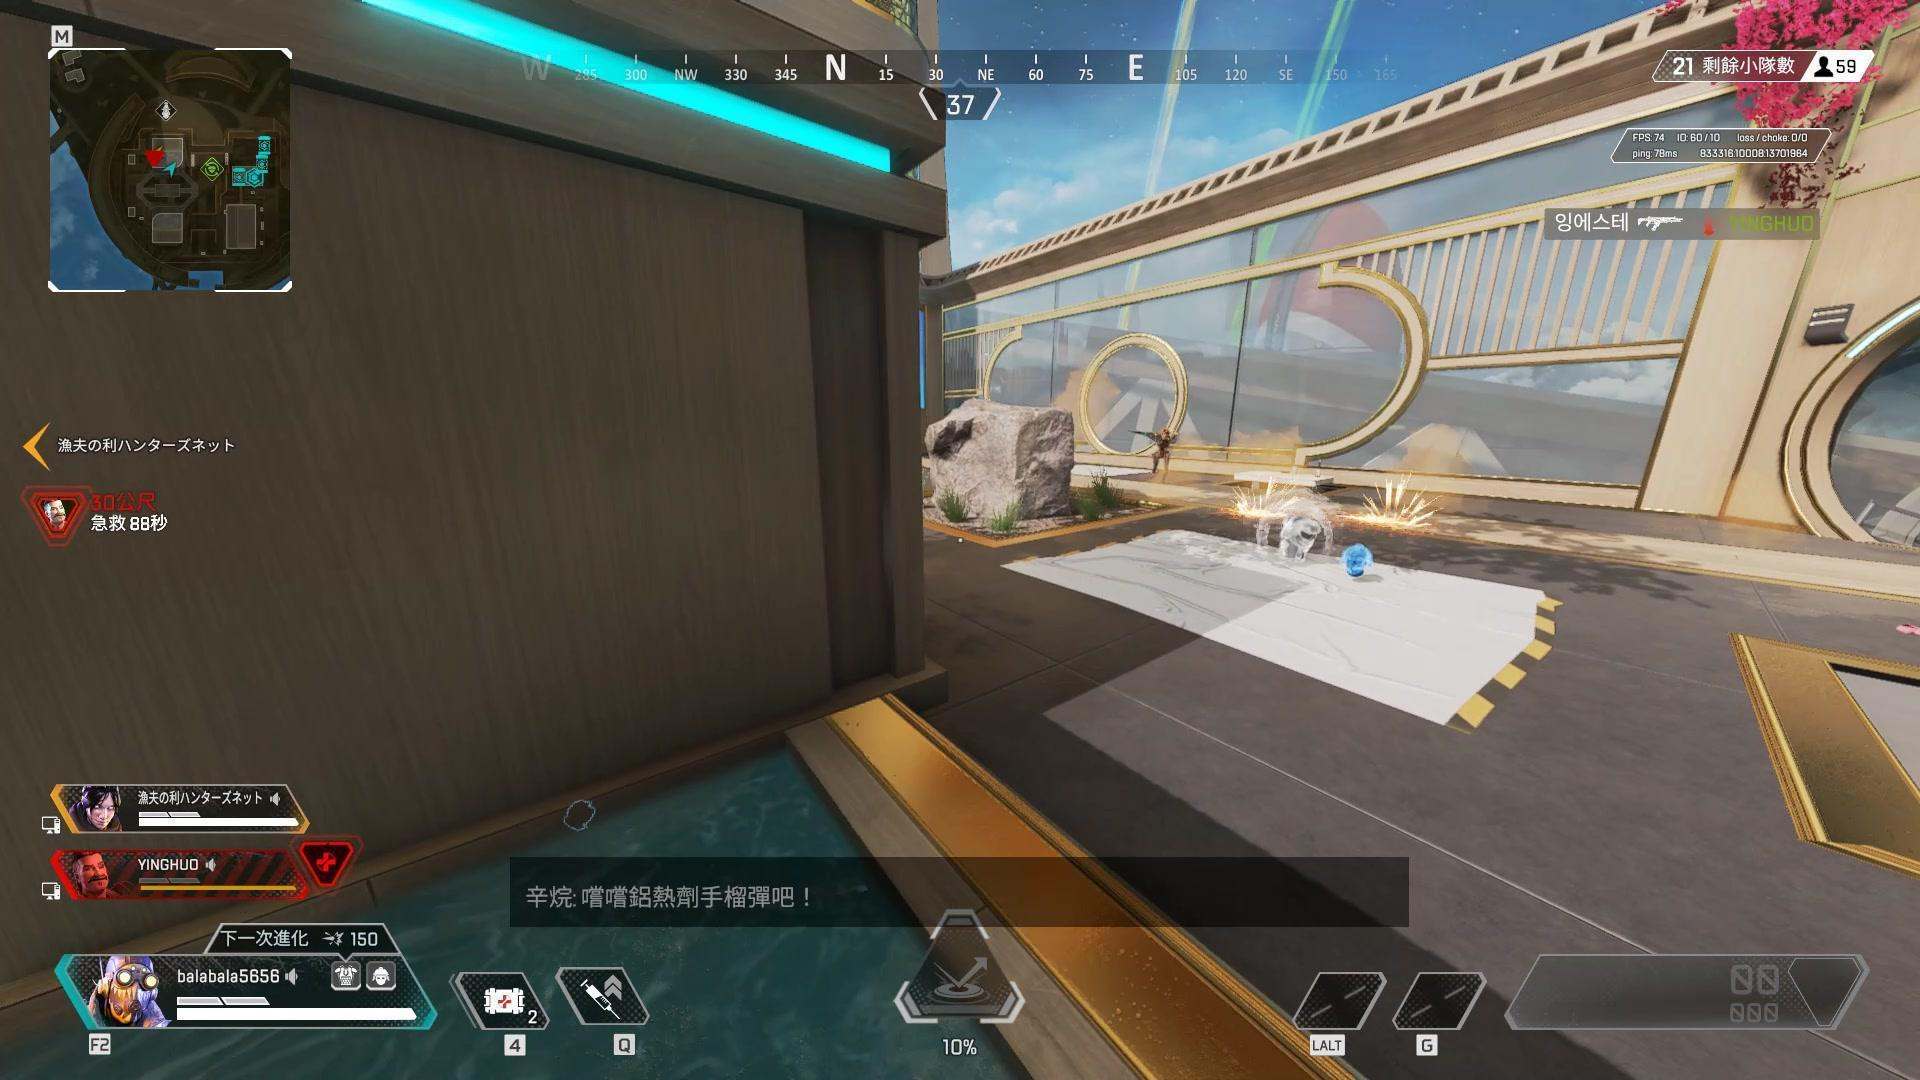avatar: (1145, 426, 1177, 477)
